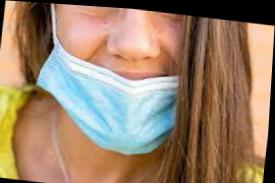OK: (33, 3, 230, 165)
